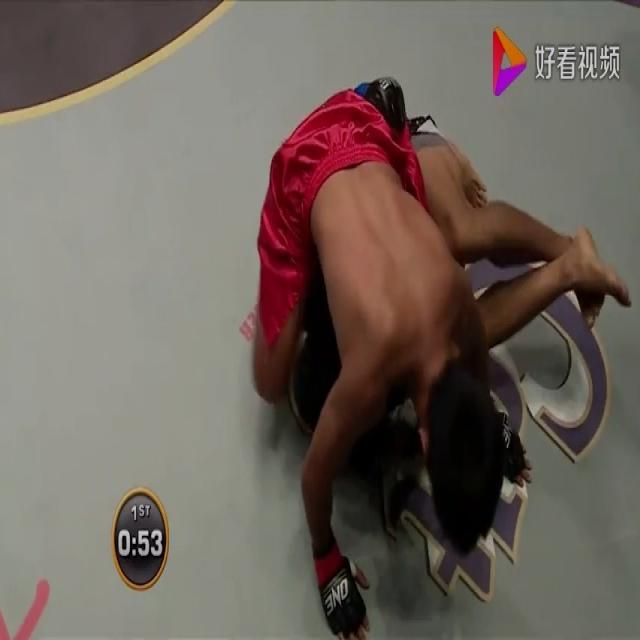fight: (200, 56, 639, 639)
